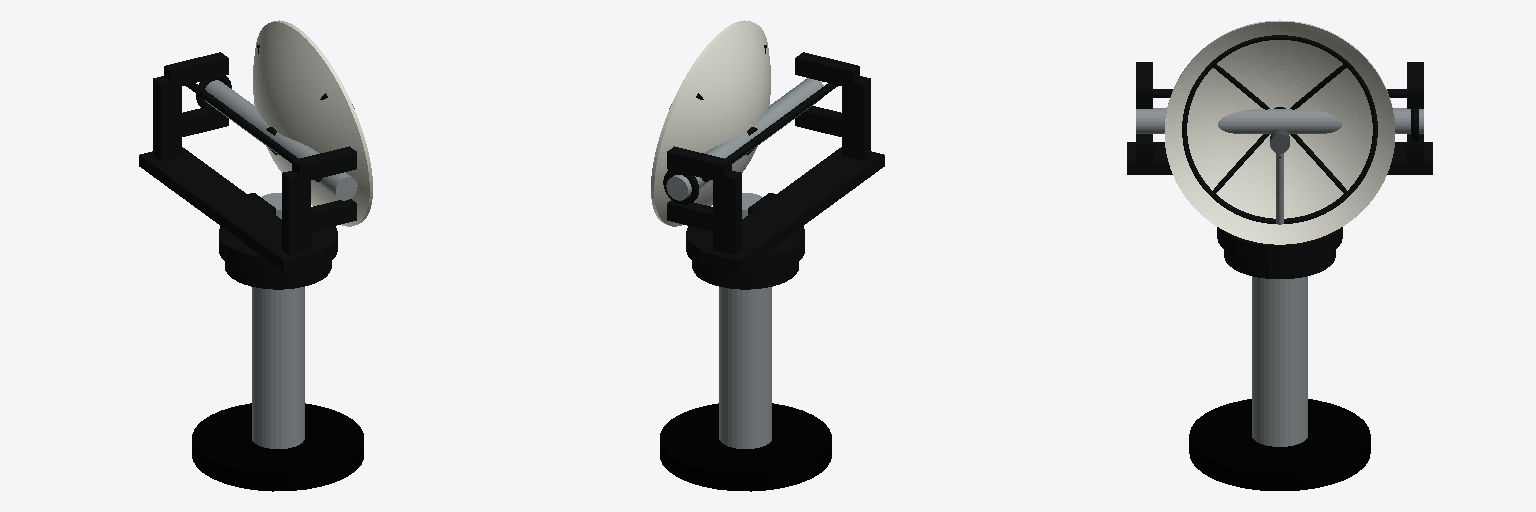
robot.urdf — satellite_pedestal_dish:
<robot name="satellite_pedestal_dish">
  <material name="galvanized_steel">
    <color rgba="0.58 0.61 0.62 1" />
    </material>
  <material name="dark_powder_coat">
    <color rgba="0.08 0.09 0.09 1" />
    </material>
  <material name="matte_white_reflector">
    <color rgba="0.88 0.88 0.84 1" />
    </material>
  <material name="black_rubber">
    <color rgba="0.02 0.02 0.018 1" />
    </material>
  <material name="feed_gray">
    <color rgba="0.34 0.36 0.37 1" />
    </material>
  <link name="pedestal">
    <visual name="base_foot">
      <origin xyz="0 0 0.06" rpy="0 0 0" />
      <geometry>
        <cylinder radius="0.55" length="0.12" />
        </geometry>
      <material name="black_rubber">
        <color rgba="0.02 0.02 0.018 1" />
        </material>
      </visual>
    <visual name="pedestal_column">
      <origin xyz="0 0 0.72" rpy="0 0 0" />
      <geometry>
        <cylinder radius="0.17" length="1.2" />
        </geometry>
      <material name="galvanized_steel">
        <color rgba="0.58 0.61 0.62 1" />
        </material>
      </visual>
    <visual name="fixed_turntable">
      <origin xyz="0 0 1.38" rpy="0 0 0" />
      <geometry>
        <cylinder radius="0.34" length="0.12" />
        </geometry>
      <material name="dark_powder_coat">
        <color rgba="0.08 0.09 0.09 1" />
        </material>
      </visual>
    <collision name="base_foot">
      <origin xyz="0 0 0.06" rpy="0 0 0" />
      <geometry>
        <cylinder radius="0.55" length="0.12" />
        </geometry>
      </collision>
    <collision name="pedestal_column">
      <origin xyz="0 0 0.72" rpy="0 0 0" />
      <geometry>
        <cylinder radius="0.17" length="1.2" />
        </geometry>
      </collision>
    <collision name="fixed_turntable">
      <origin xyz="0 0 1.38" rpy="0 0 0" />
      <geometry>
        <cylinder radius="0.34" length="0.12" />
        </geometry>
      </collision>
    </link>
  <link name="yaw_head">
    <visual name="rotating_turntable">
      <origin xyz="0 0 0.06" rpy="0 0 0" />
      <geometry>
        <cylinder radius="0.38" length="0.12" />
        </geometry>
      <material name="dark_powder_coat">
        <color rgba="0.08 0.09 0.09 1" />
        </material>
      </visual>
    <visual name="azimuth_neck">
      <origin xyz="0 0 0.23" rpy="0 0 0" />
      <geometry>
        <cylinder radius="0.13" length="0.22" />
        </geometry>
      <material name="galvanized_steel">
        <color rgba="0.58 0.61 0.62 1" />
        </material>
      </visual>
    <visual name="yoke_base">
      <origin xyz="-0.34 0 0.37" rpy="0 0 0" />
      <geometry>
        <box size="0.3 1.85 0.08" />
        </geometry>
      <material name="dark_powder_coat">
        <color rgba="0.08 0.09 0.09 1" />
        </material>
      </visual>
    <visual name="azimuth_saddle">
      <origin xyz="-0.205 0 0.32" rpy="0 0 0" />
      <geometry>
        <box size="0.22 0.28 0.1" />
        </geometry>
      <material name="dark_powder_coat">
        <color rgba="0.08 0.09 0.09 1" />
        </material>
      </visual>
    <visual name="yoke_post_0">
      <origin xyz="-0.34 -0.82 0.66" rpy="0 0 0" />
      <geometry>
        <box size="0.16 0.1 0.58" />
        </geometry>
      <material name="dark_powder_coat">
        <color rgba="0.08 0.09 0.09 1" />
        </material>
      </visual>
    <visual name="lower_lug_0">
      <origin xyz="-0.13 -0.82 0.6" rpy="0 0 0" />
      <geometry>
        <box size="0.42 0.1 0.12" />
        </geometry>
      <material name="dark_powder_coat">
        <color rgba="0.08 0.09 0.09 1" />
        </material>
      </visual>
    <visual name="upper_lug_0">
      <origin xyz="-0.13 -0.82 0.96" rpy="0 0 0" />
      <geometry>
        <box size="0.42 0.1 0.12" />
        </geometry>
      <material name="dark_powder_coat">
        <color rgba="0.08 0.09 0.09 1" />
        </material>
      </visual>
    <visual name="bearing_ring_0">
      <origin xyz="0 -0.82 0.78" rpy="0 0 0" />
      <geometry>
        <mesh filename="assets/meshes/bearing_ring_0_mesh.obj" />
        </geometry>
      <material name="dark_powder_coat">
        <color rgba="0.08 0.09 0.09 1" />
        </material>
      </visual>
    <visual name="yoke_post_1">
      <origin xyz="-0.34 0.82 0.66" rpy="0 0 0" />
      <geometry>
        <box size="0.16 0.1 0.58" />
        </geometry>
      <material name="dark_powder_coat">
        <color rgba="0.08 0.09 0.09 1" />
        </material>
      </visual>
    <visual name="lower_lug_1">
      <origin xyz="-0.13 0.82 0.6" rpy="0 0 0" />
      <geometry>
        <box size="0.42 0.1 0.12" />
        </geometry>
      <material name="dark_powder_coat">
        <color rgba="0.08 0.09 0.09 1" />
        </material>
      </visual>
    <visual name="upper_lug_1">
      <origin xyz="-0.13 0.82 0.96" rpy="0 0 0" />
      <geometry>
        <box size="0.42 0.1 0.12" />
        </geometry>
      <material name="dark_powder_coat">
        <color rgba="0.08 0.09 0.09 1" />
        </material>
      </visual>
    <visual name="bearing_ring_1">
      <origin xyz="0 0.82 0.78" rpy="0 0 0" />
      <geometry>
        <mesh filename="assets/meshes/bearing_ring_1_mesh.obj" />
        </geometry>
      <material name="dark_powder_coat">
        <color rgba="0.08 0.09 0.09 1" />
        </material>
      </visual>
    <visual name="rear_cross_tube">
      <origin xyz="-0.18 0 0.88" rpy="-1.5708 0 0" />
      <geometry>
        <cylinder radius="0.026" length="1.66" />
        </geometry>
      <material name="dark_powder_coat">
        <color rgba="0.08 0.09 0.09 1" />
        </material>
      </visual>
    <collision name="rotating_turntable">
      <origin xyz="0 0 0.06" rpy="0 0 0" />
      <geometry>
        <cylinder radius="0.38" length="0.12" />
        </geometry>
      </collision>
    <collision name="azimuth_neck">
      <origin xyz="0 0 0.23" rpy="0 0 0" />
      <geometry>
        <cylinder radius="0.13" length="0.22" />
        </geometry>
      </collision>
    <collision name="yoke_base">
      <origin xyz="-0.34 0 0.37" rpy="0 0 0" />
      <geometry>
        <box size="0.3 1.85 0.08" />
        </geometry>
      </collision>
    <collision name="azimuth_saddle">
      <origin xyz="-0.205 0 0.32" rpy="0 0 0" />
      <geometry>
        <box size="0.22 0.28 0.1" />
        </geometry>
      </collision>
    <collision name="yoke_post_0">
      <origin xyz="-0.34 -0.82 0.66" rpy="0 0 0" />
      <geometry>
        <box size="0.16 0.1 0.58" />
        </geometry>
      </collision>
    <collision name="lower_lug_0">
      <origin xyz="-0.13 -0.82 0.6" rpy="0 0 0" />
      <geometry>
        <box size="0.42 0.1 0.12" />
        </geometry>
      </collision>
    <collision name="upper_lug_0">
      <origin xyz="-0.13 -0.82 0.96" rpy="0 0 0" />
      <geometry>
        <box size="0.42 0.1 0.12" />
        </geometry>
      </collision>
    <collision name="bearing_ring_0">
      <origin xyz="0 -0.82 0.78" rpy="0 0 0" />
      <geometry>
        <mesh filename="assets/meshes/bearing_ring_0_mesh.obj" />
        </geometry>
      </collision>
    <collision name="yoke_post_1">
      <origin xyz="-0.34 0.82 0.66" rpy="0 0 0" />
      <geometry>
        <box size="0.16 0.1 0.58" />
        </geometry>
      </collision>
    <collision name="lower_lug_1">
      <origin xyz="-0.13 0.82 0.6" rpy="0 0 0" />
      <geometry>
        <box size="0.42 0.1 0.12" />
        </geometry>
      </collision>
    <collision name="upper_lug_1">
      <origin xyz="-0.13 0.82 0.96" rpy="0 0 0" />
      <geometry>
        <box size="0.42 0.1 0.12" />
        </geometry>
      </collision>
    <collision name="bearing_ring_1">
      <origin xyz="0 0.82 0.78" rpy="0 0 0" />
      <geometry>
        <mesh filename="assets/meshes/bearing_ring_1_mesh.obj" />
        </geometry>
      </collision>
    <collision name="rear_cross_tube">
      <origin xyz="-0.18 0 0.88" rpy="-1.5708 0 0" />
      <geometry>
        <cylinder radius="0.026" length="1.66" />
        </geometry>
      </collision>
    </link>
  <link name="dish_frame">
    <visual name="reflector_shell">
      <geometry>
        <mesh filename="assets/meshes/parabolic_reflector.obj" />
        </geometry>
      <material name="matte_white_reflector">
        <color rgba="0.88 0.88 0.84 1" />
        </material>
      </visual>
    <visual name="rear_support_frame">
      <geometry>
        <mesh filename="assets/meshes/rear_support_frame.obj" />
        </geometry>
      <material name="dark_powder_coat">
        <color rgba="0.08 0.09 0.09 1" />
        </material>
      </visual>
    <visual name="trunnion_shaft">
      <origin xyz="0 0 0" rpy="-1.5708 0 0" />
      <geometry>
        <cylinder radius="0.081" length="1.74" />
        </geometry>
      <material name="galvanized_steel">
        <color rgba="0.58 0.61 0.62 1" />
        </material>
      </visual>
    <visual name="rear_hub">
      <origin xyz="-0.015 0 0" rpy="0 1.5708 0" />
      <geometry>
        <cylinder radius="0.09" length="0.065" />
        </geometry>
      <material name="dark_powder_coat">
        <color rgba="0.08 0.09 0.09 1" />
        </material>
      </visual>
    <visual name="feed_arm">
      <geometry>
        <mesh filename="assets/meshes/feed_arm_mesh.obj" />
        </geometry>
      <material name="galvanized_steel">
        <color rgba="0.58 0.61 0.62 1" />
        </material>
      </visual>
    <visual name="feed_horn">
      <origin xyz="0.47 0 0" rpy="0 1.5708 0" />
      <geometry>
        <cylinder radius="0.06" length="0.14" />
        </geometry>
      <material name="feed_gray">
        <color rgba="0.34 0.36 0.37 1" />
        </material>
      </visual>
    <visual name="feed_arm_boss">
      <origin xyz="0.41 0 -0.08" rpy="0 0 0" />
      <geometry>
        <sphere radius="0.025" />
        </geometry>
      <material name="feed_gray">
        <color rgba="0.34 0.36 0.37 1" />
        </material>
      </visual>
    <collision name="reflector_shell">
      <geometry>
        <mesh filename="assets/meshes/parabolic_reflector.obj" />
        </geometry>
      </collision>
    <collision name="rear_support_frame">
      <geometry>
        <mesh filename="assets/meshes/rear_support_frame.obj" />
        </geometry>
      </collision>
    <collision name="trunnion_shaft">
      <origin xyz="0 0 0" rpy="-1.5708 0 0" />
      <geometry>
        <cylinder radius="0.081" length="1.74" />
        </geometry>
      </collision>
    <collision name="rear_hub">
      <origin xyz="-0.015 0 0" rpy="0 1.5708 0" />
      <geometry>
        <cylinder radius="0.09" length="0.065" />
        </geometry>
      </collision>
    <collision name="feed_arm">
      <geometry>
        <mesh filename="assets/meshes/feed_arm_mesh.obj" />
        </geometry>
      </collision>
    <collision name="feed_horn">
      <origin xyz="0.47 0 0" rpy="0 1.5708 0" />
      <geometry>
        <cylinder radius="0.06" length="0.14" />
        </geometry>
      </collision>
    <collision name="feed_arm_boss">
      <origin xyz="0.41 0 -0.08" rpy="0 0 0" />
      <geometry>
        <sphere radius="0.025" />
        </geometry>
      </collision>
    </link>
  <joint name="azimuth_axis" type="continuous">
    <origin xyz="0 0 1.44" rpy="0 0 0" />
    <parent link="pedestal" />
    <child link="yaw_head" />
    <axis xyz="0 0 1" />
    <limit effort="450" velocity="0.45" />
    </joint>
  <joint name="elevation_axis" type="revolute">
    <origin xyz="0 0 0.78" rpy="0 -0.174533 0" />
    <parent link="yaw_head" />
    <child link="dish_frame" />
    <axis xyz="0 -1 0" />
    <limit effort="320" velocity="0.35" lower="0" upper="1.22173" />
    </joint>
  </robot>

--- Render facts (derived) ---
Views: 3 orthographic renders of the robot side by side, from view 1: azimuth 30°, elevation 25°; view 2: azimuth 150°, elevation 25°; view 3: azimuth 270°, elevation 25°.
Model satellite_pedestal_dish with 3 links and 2 joints (1 revolute, 1 continuous), rooted at pedestal, posed every joint at zero.
Links seen in each view (by area): view 1: yaw_head, pedestal, dish_frame; view 2: yaw_head, pedestal, dish_frame; view 3: dish_frame, pedestal, yaw_head.
Link boxes in pixels (<box>): yaw_head: <box>139,52,356,274</box>; pedestal: <box>192,261,363,491</box>; dish_frame: <box>205,20,372,226</box>; yaw_head: <box>663,52,884,274</box>; pedestal: <box>660,261,831,491</box>; dish_frame: <box>651,20,823,226</box>; dish_frame: <box>1136,20,1423,244</box>; pedestal: <box>1189,250,1370,490</box>; yaw_head: <box>1127,62,1432,263</box>.
Size in the robot's own frame: 1.1 by 1.85 by 2.96 metres.
4 mesh visuals loaded from 5 distinct referenced files (4 OBJ); not drawn: 1 (reference not matched to a file when rendering).
